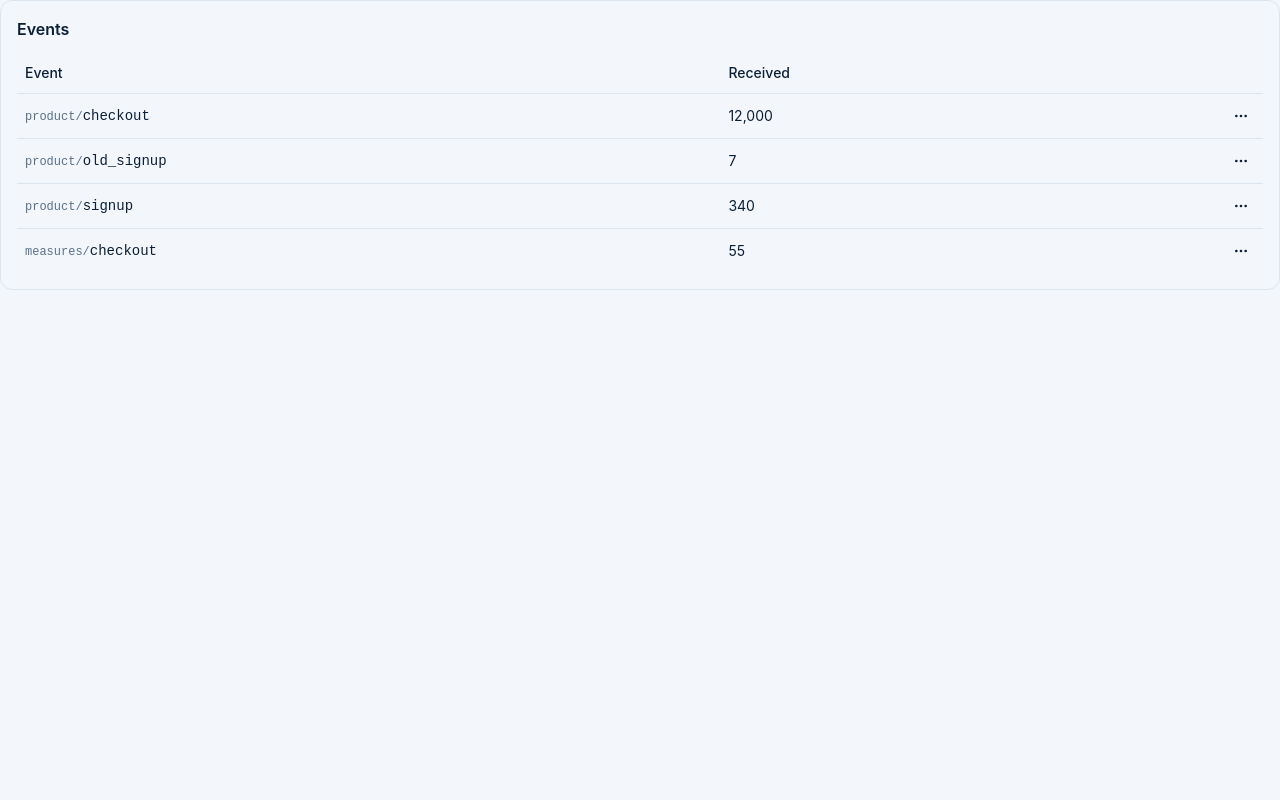
Test: EventsSection › disables the button for an empty name, a $ name and the same name
Click the button named "Actions for signup (product)" at (1241, 206), box top-left (1227, 192), bottom-right (1255, 220)
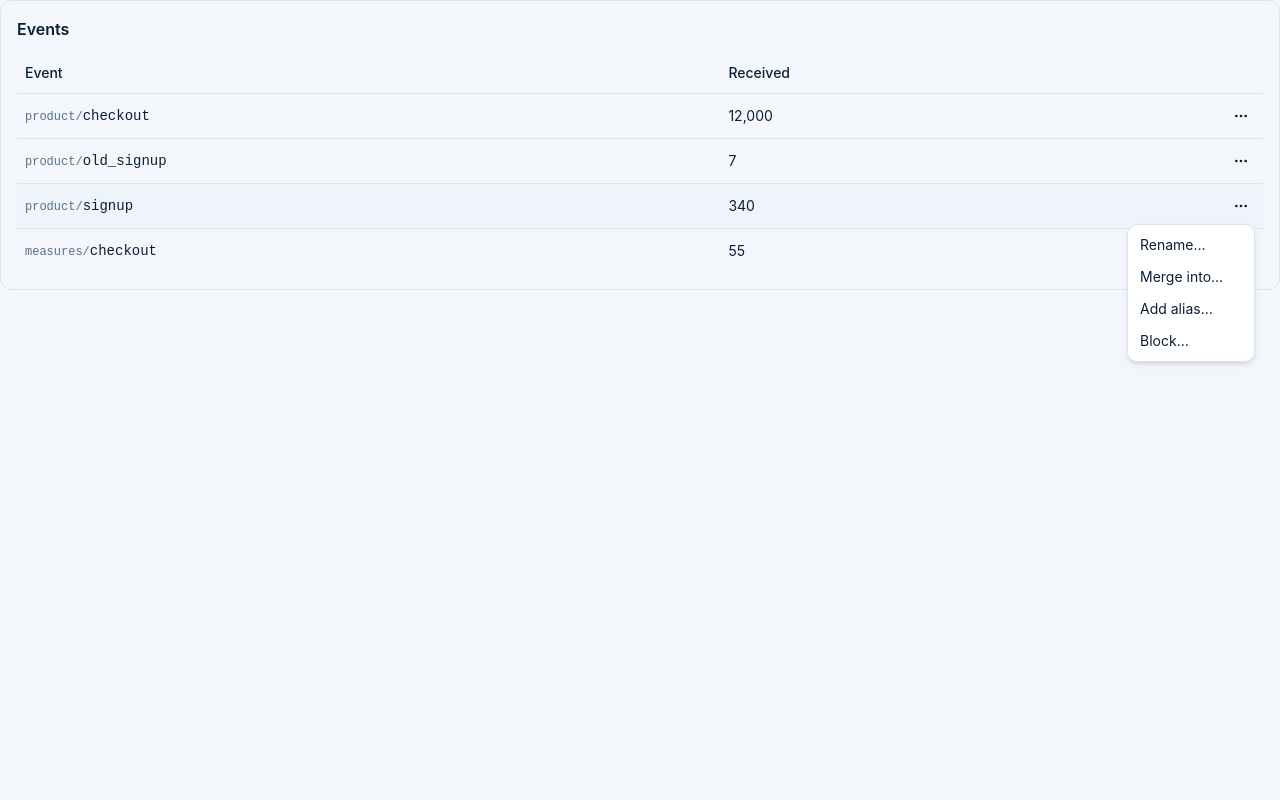
Click the menu item "Rename…" at (1173, 244), box top-left (1140, 236), bottom-right (1206, 253)
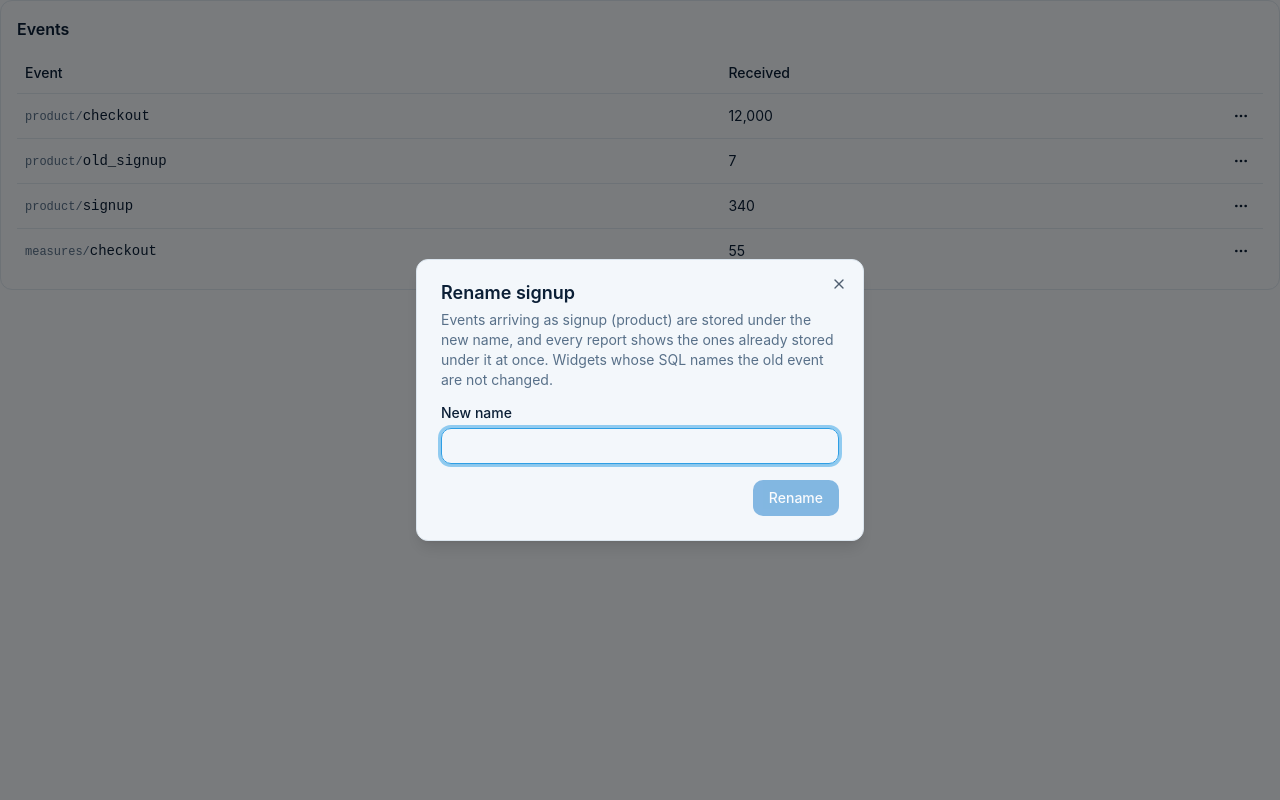
expect the button "Rename" is disabled: met, box top-left (753, 480), bottom-right (839, 516)
Type "$x" into the field at (640, 446), box top-left (441, 428), bottom-right (839, 464)
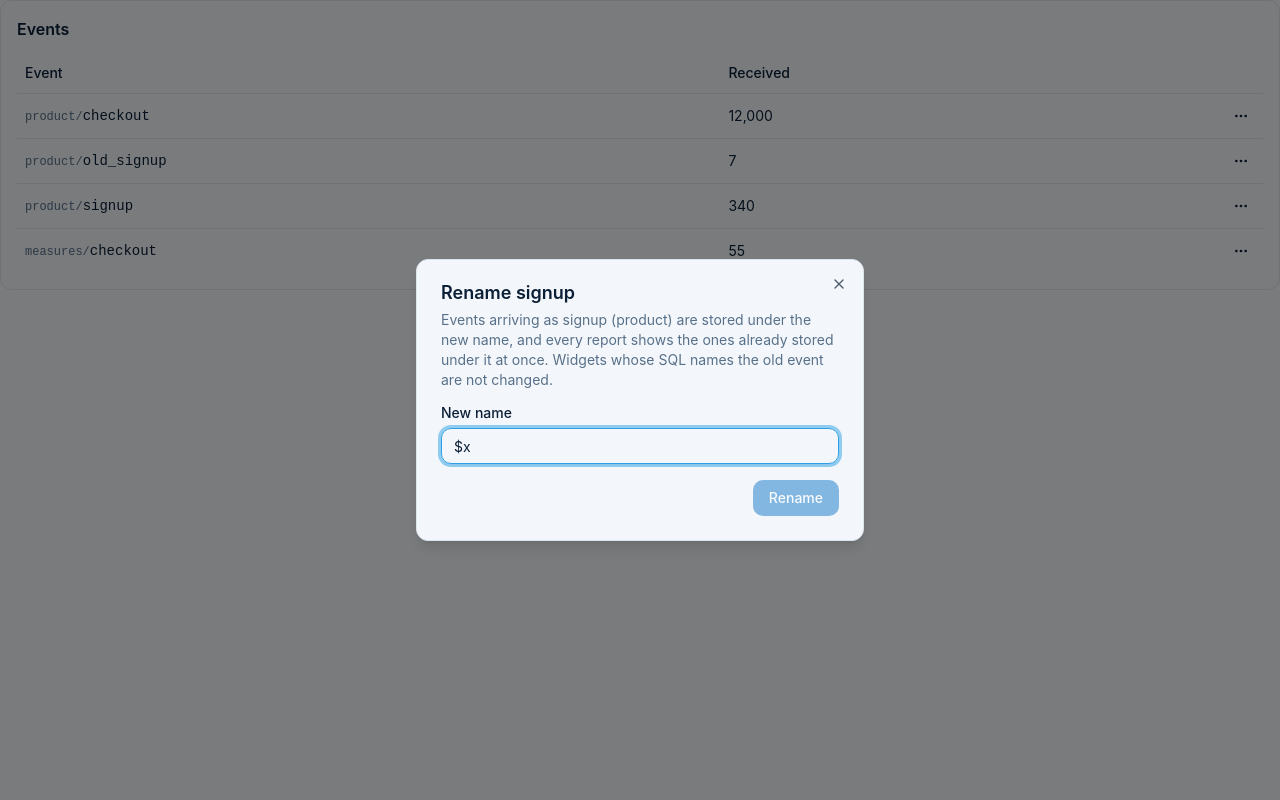
expect the button "Rename" is disabled: met, box top-left (753, 480), bottom-right (839, 516)
Replace the text in the field with "  signup  " at (640, 446), box top-left (441, 428), bottom-right (839, 464)
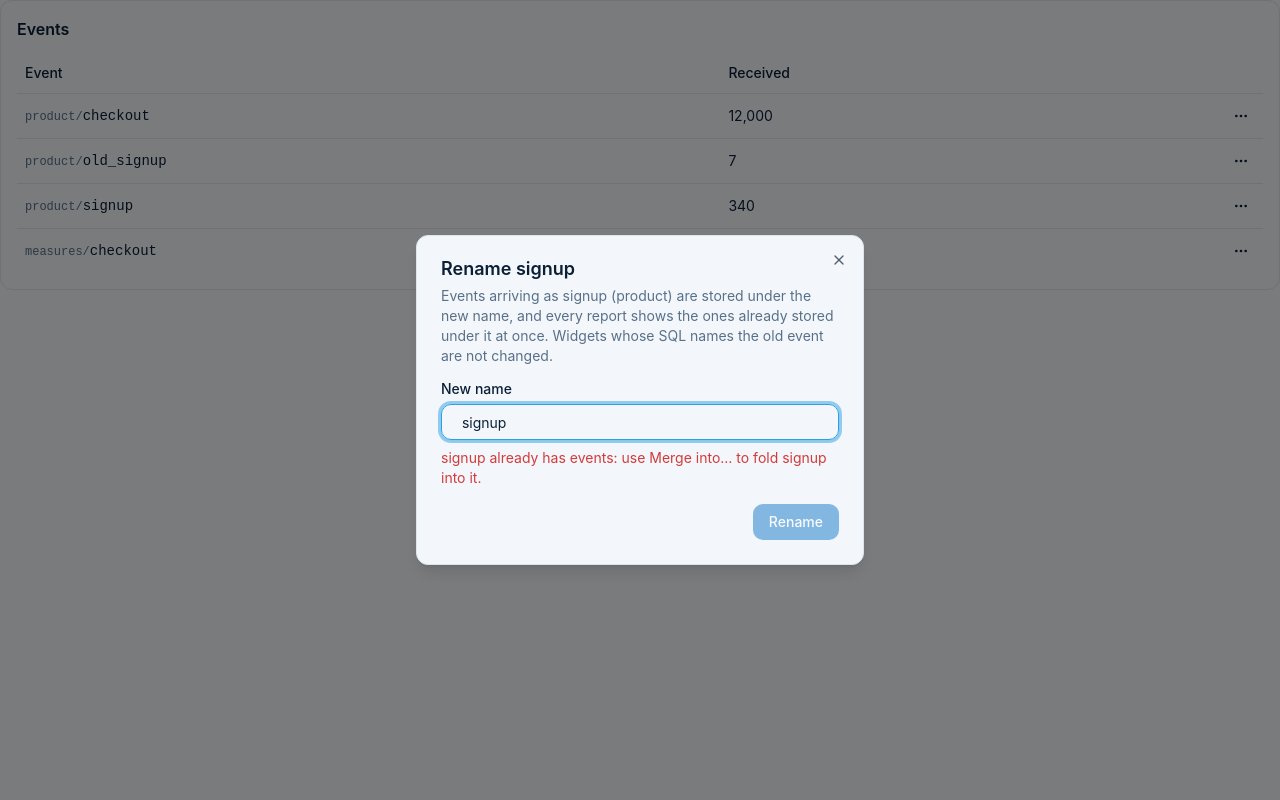
expect the button "Rename" is disabled: met, box top-left (753, 504), bottom-right (839, 540)
Clear the field at (640, 422), box top-left (441, 404), bottom-right (839, 440)
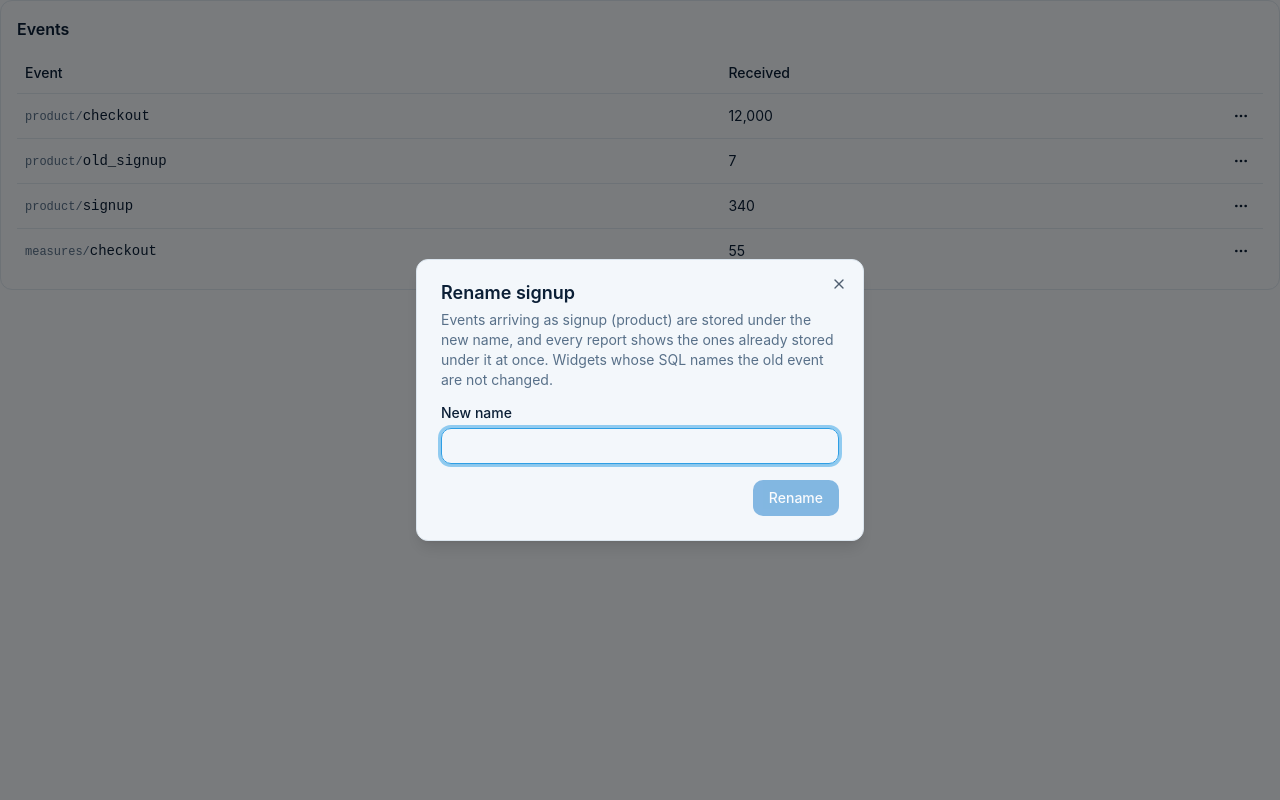
Type " fresh " into the field at (640, 446), box top-left (441, 428), bottom-right (839, 464)
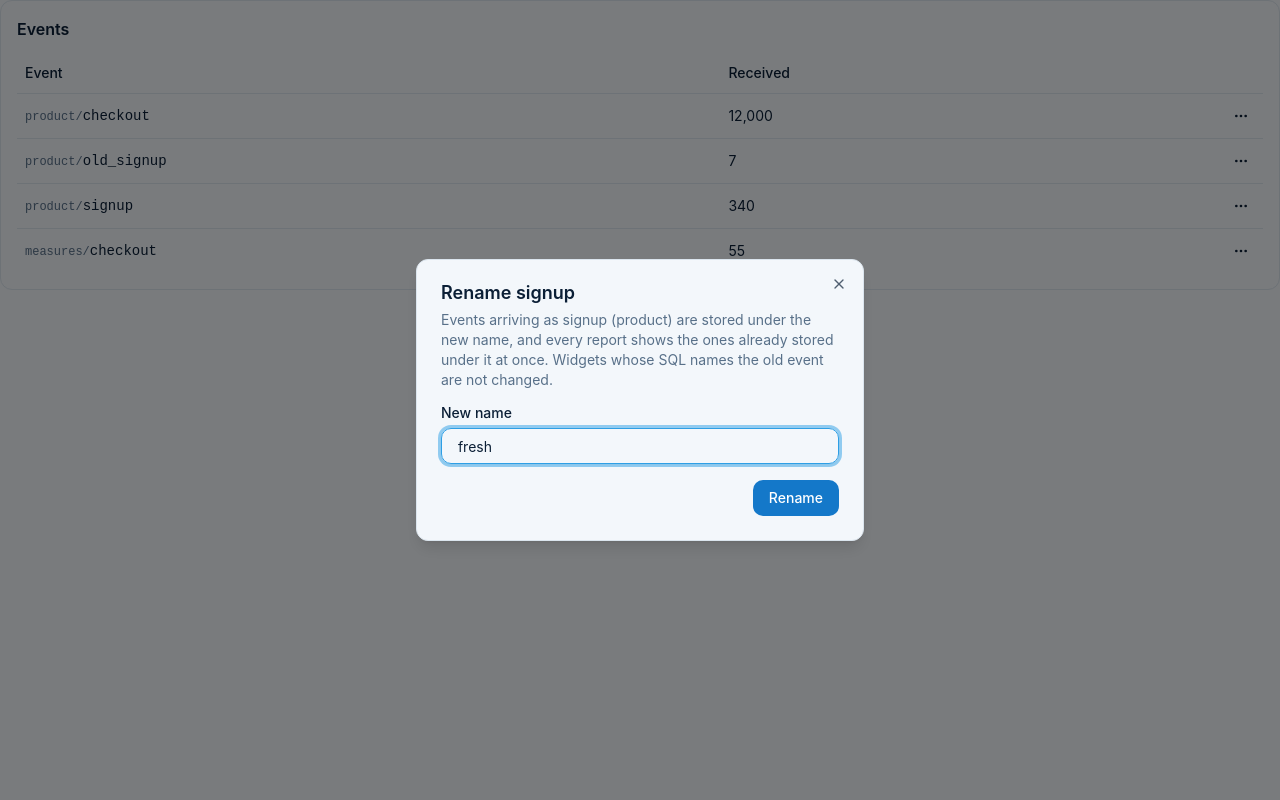
expect the button "Rename" is enabled: met, box top-left (753, 480), bottom-right (839, 516)
